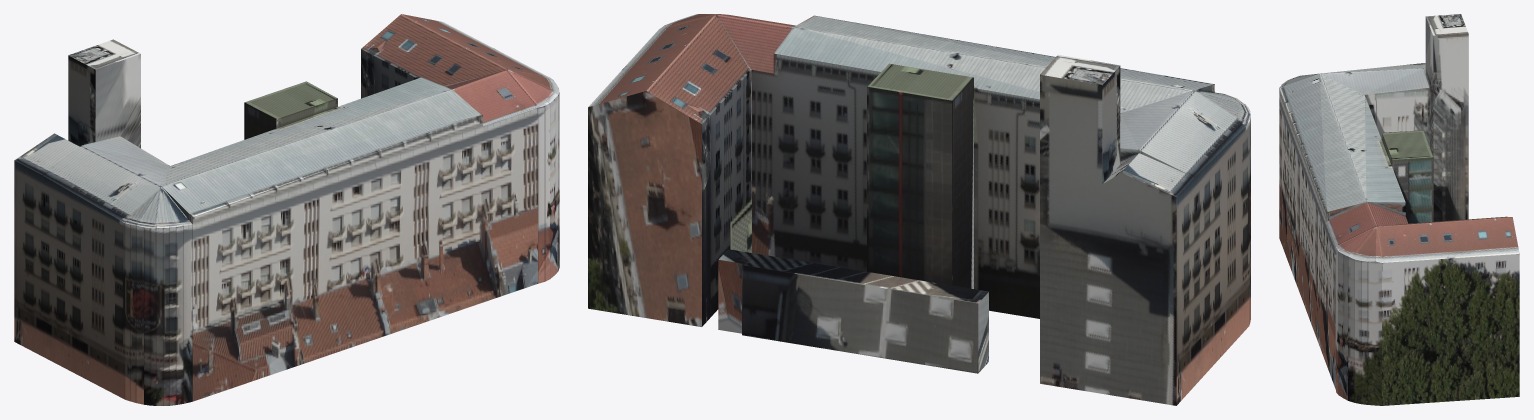
3 views of the same model, side by side, from view 1: azimuth 30°, elevation 25°; view 2: azimuth 150°, elevation 25°; view 3: azimuth 270°, elevation 25° (orthographic). The views are drawn at different scales.
Visible parts, largest first — view 1: Z_UP; view 2: Z_UP; view 3: Z_UP.
Part boxes in pixels (x1,y1,x2,y2): Z_UP: [14, 14, 559, 405]; Z_UP: [588, 14, 1250, 405]; Z_UP: [1279, 14, 1519, 405].
Bounding box in the file's own units: 70.35 × 36.62 × 36.35.
Materials: 2 (1 with a texture image).
